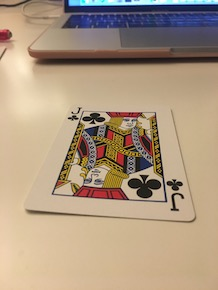JackOfClubs: (21, 100, 202, 226)
